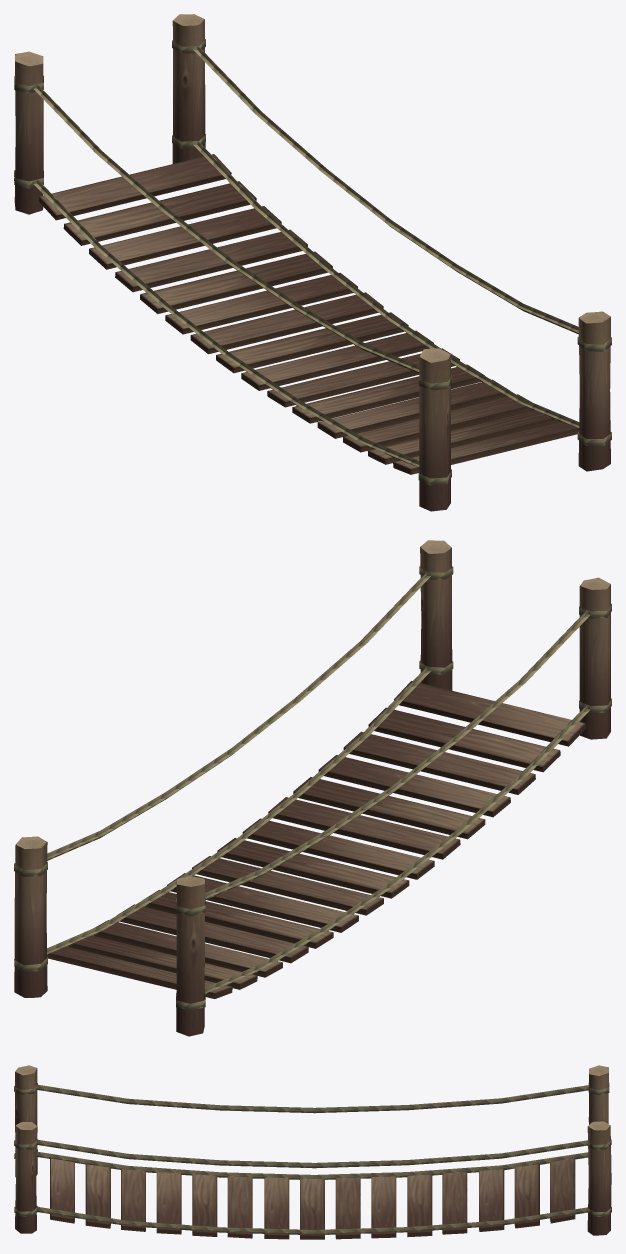
Rendered from bridge2.obj.
3 views of the same model, one above another, from view 1: azimuth 30°, elevation 25°; view 2: azimuth 150°, elevation 25°; view 3: azimuth 270°, elevation 25° (orthographic). The views are drawn at different scales.
Visible parts, largest first — view 1: Bridge_Bridge_Mesh; view 2: Bridge_Bridge_Mesh; view 3: Bridge_Bridge_Mesh.
Part boxes in pixels (x1,y1,x2,y2): Bridge_Bridge_Mesh: [14, 14, 611, 511]; Bridge_Bridge_Mesh: [14, 540, 611, 1036]; Bridge_Bridge_Mesh: [14, 1065, 611, 1239].
Size of the model in its own units: 2.22 by 1.8 by 8.64.
